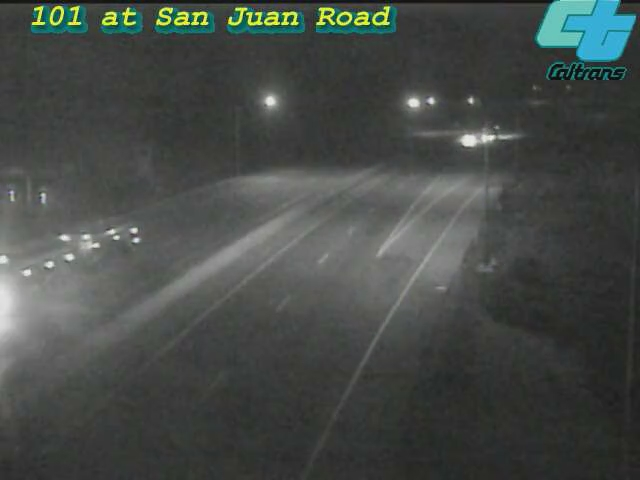vehicle: (1, 241, 69, 321), (470, 107, 520, 157), (448, 114, 498, 164)
